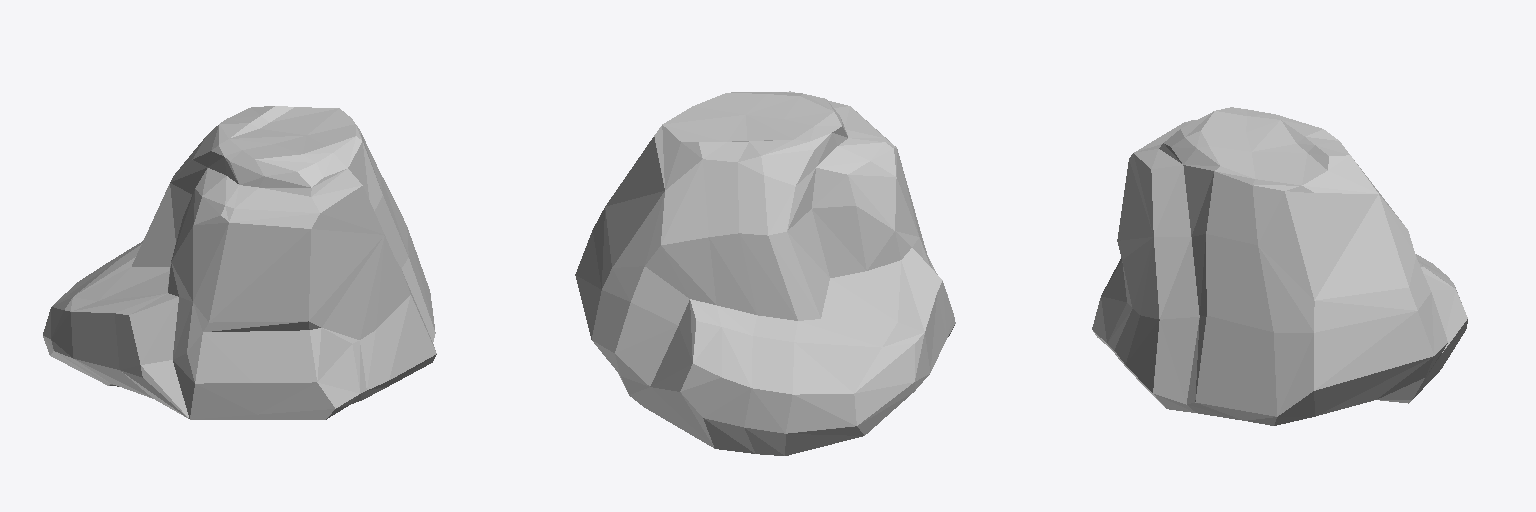
The model's file is Rock_Medium_1.obj.
3 renders of one model, left to right at view 1: azimuth 30°, elevation 25°; view 2: azimuth 150°, elevation 25°; view 3: azimuth 270°, elevation 25°, orthographic.
Visible parts, largest first — view 1: Rock_Medium_1; view 2: Rock_Medium_1; view 3: Rock_Medium_1.
Boxes of the visible parts, box(x1,y1,x2,y2) form: Rock_Medium_1: box(43, 106, 436, 419); Rock_Medium_1: box(575, 91, 955, 455); Rock_Medium_1: box(1092, 107, 1467, 425).
Size of the model in its own units: 3.23 by 2.26 by 2.99.